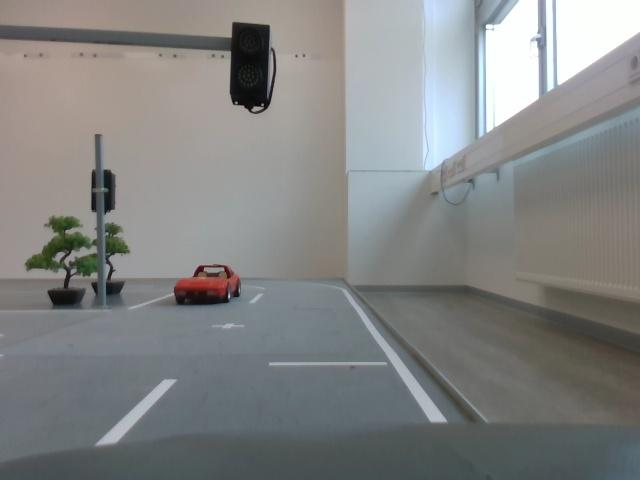car: (175, 261, 245, 312)
potted plant: (28, 213, 98, 317), (89, 220, 135, 303)
traffic light: (225, 19, 277, 117), (87, 164, 120, 217)
